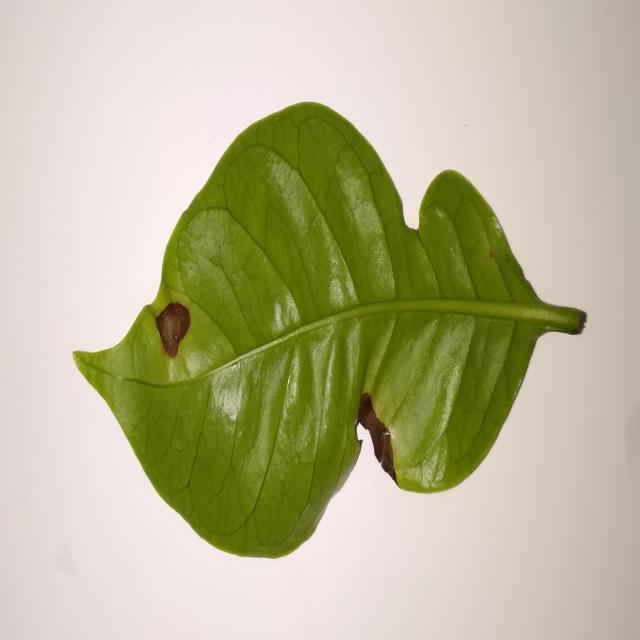Enfermedad-Antracnosis: (71, 102, 588, 562)
